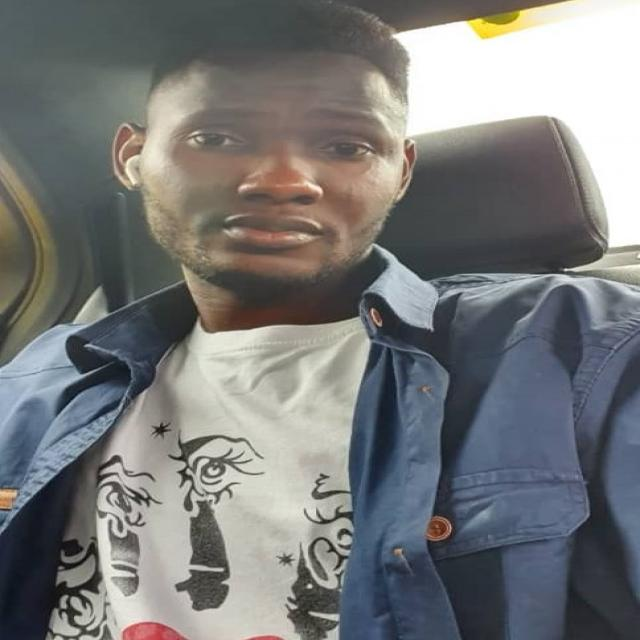sad: (111, 14, 413, 317)
